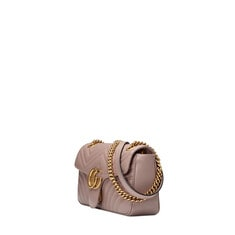Gucci: (74, 139, 164, 217), (86, 164, 104, 191)
